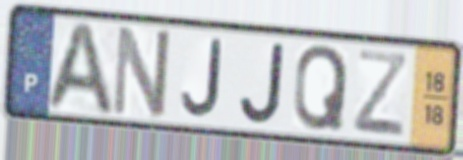A: (40, 18, 118, 119)
J: (236, 39, 287, 128), (178, 36, 224, 121)
N: (109, 21, 175, 121)
Q: (291, 42, 351, 134)
Z: (350, 47, 410, 141)
